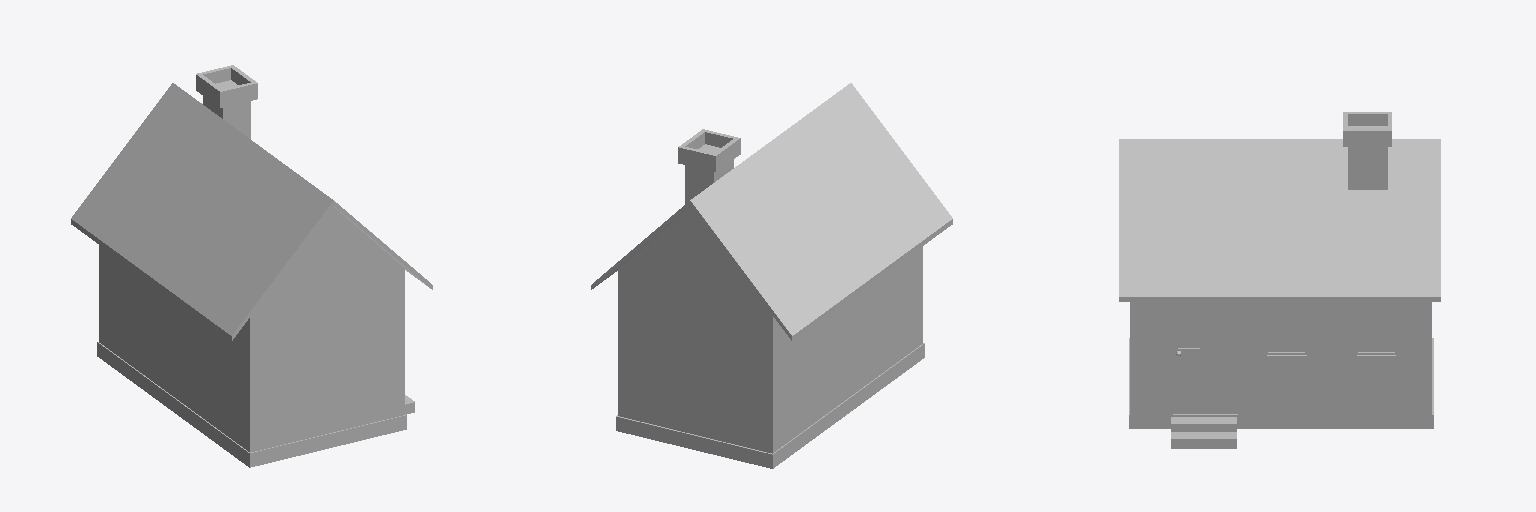
File: casa.obj
3 renders of one model, left to right at view 1: azimuth 30°, elevation 25°; view 2: azimuth 150°, elevation 25°; view 3: azimuth 270°, elevation 25°, orthographic.
Visible parts, largest first — view 1: Mesh.022_casa_Cube.001, Mesh_Mesh_telhado_Plane.000, Mesh.014_Mesh.023_telhado_Plane.000; view 2: Mesh.022_casa_Cube.001, Mesh_Mesh_telhado_Plane.000, Mesh.014_Mesh.023_telhado_Plane.000; view 3: Mesh_Mesh_telhado_Plane.000, Mesh.022_casa_Cube.001, Mesh.017_Mesh.002_porta_Cube.002, Mesh.014_Mesh.023_telhado_Plane.000, Mesh.018_Mesh.001_escadas_Cube.003, Mesh.013_janela_fundo.001_Plane.004, Mesh.015_janela_fundo_Plane.003.
Boxes of the visible parts, <box> form: Mesh.022_casa_Cube.001: <box>97,207,406,467</box>; Mesh_Mesh_telhado_Plane.000: <box>71,83,432,341</box>; Mesh.014_Mesh.023_telhado_Plane.000: <box>196,65,257,138</box>; Mesh.022_casa_Cube.001: <box>616,207,924,468</box>; Mesh_Mesh_telhado_Plane.000: <box>591,83,952,341</box>; Mesh.014_Mesh.023_telhado_Plane.000: <box>678,129,740,203</box>; Mesh_Mesh_telhado_Plane.000: <box>1119,139,1440,301</box>; Mesh.022_casa_Cube.001: <box>1129,302,1433,428</box>; Mesh.017_Mesh.002_porta_Cube.002: <box>1173,302,1237,413</box>; Mesh.014_Mesh.023_telhado_Plane.000: <box>1343,112,1391,189</box>; Mesh.018_Mesh.001_escadas_Cube.003: <box>1171,417,1236,448</box>; Mesh.013_janela_fundo.001_Plane.004: <box>1354,302,1394,358</box>; Mesh.015_janela_fundo_Plane.003: <box>1268,303,1304,351</box>.
Bounding box in the file's own units: 3.34 × 4.32 × 4.45.